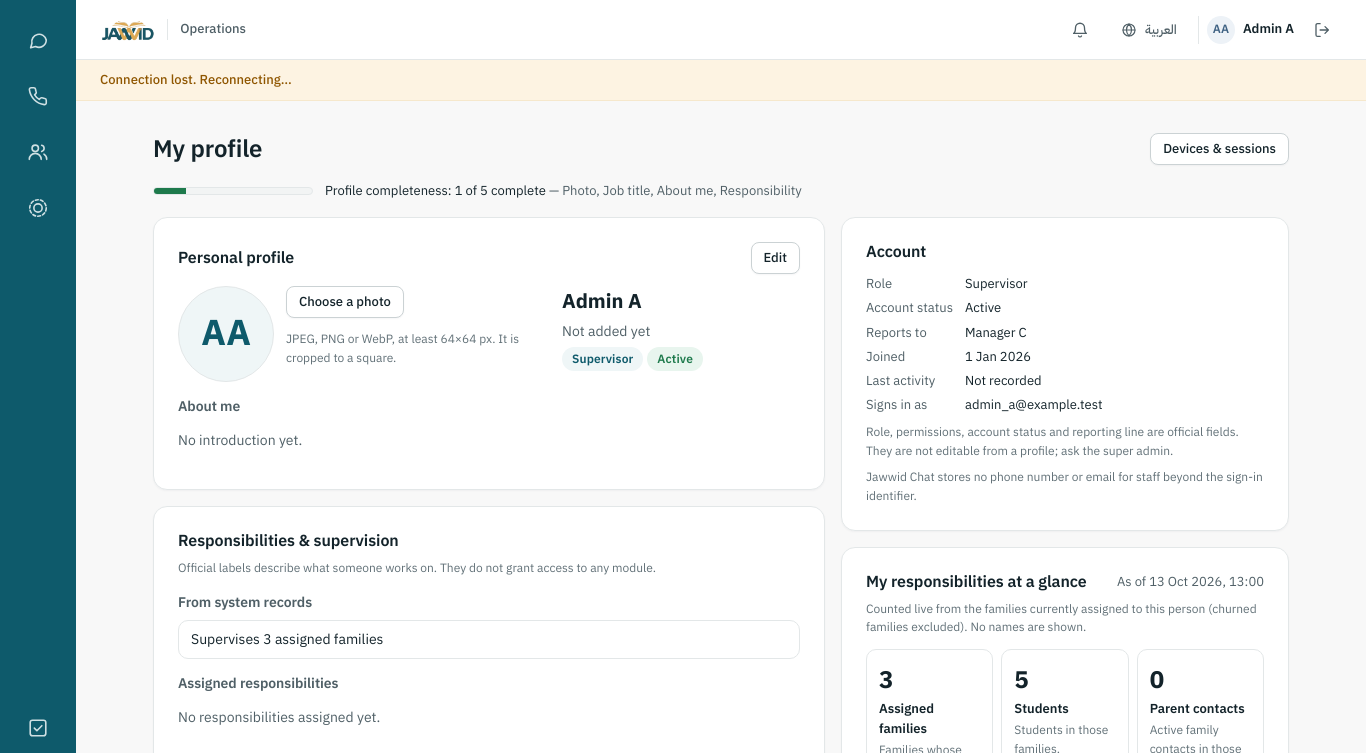
it: an admin's own profile › saves only the professional fields and the loaded version -- never a role or permission
Click the button "Edit" at (775, 258), box [750,242,800,274]
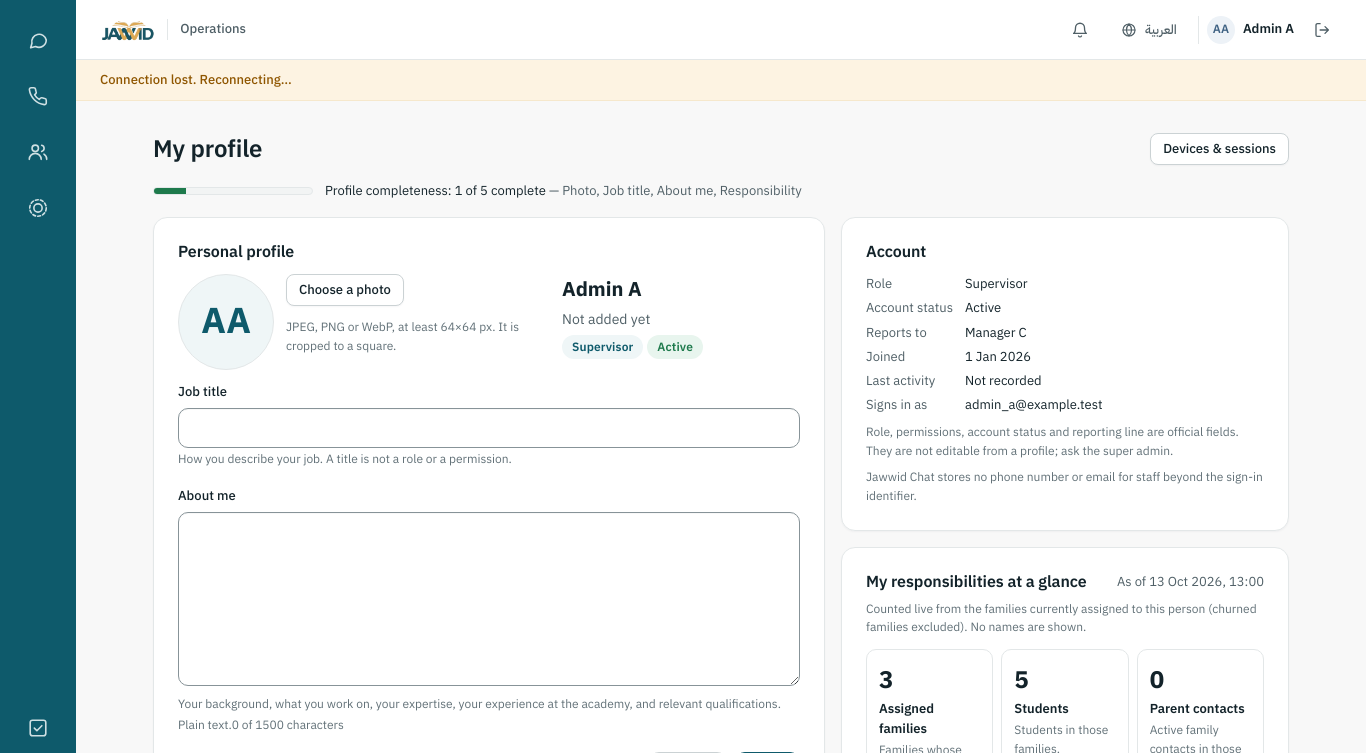
Type "مشرفة متابعة" into the field labelled "Job title" at (489, 428), box [178,408,800,448]
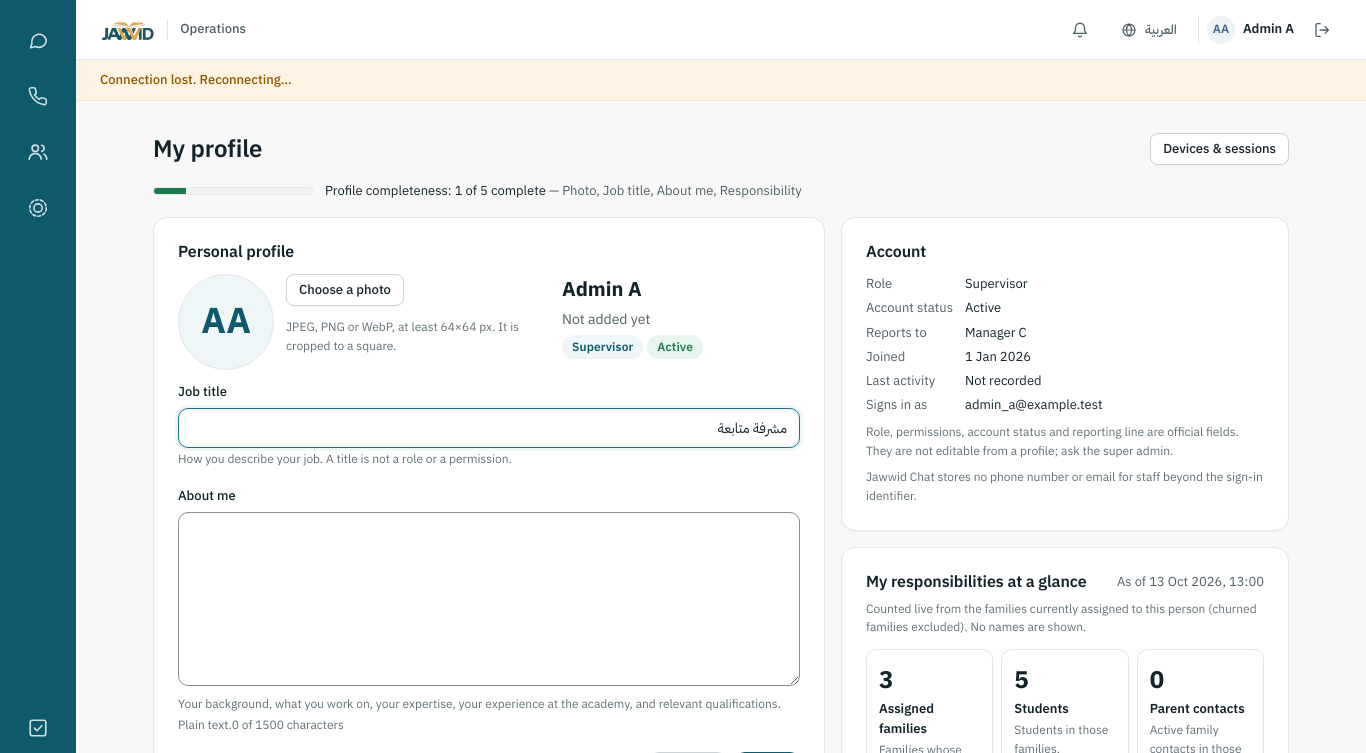
Type "Line one" into the text box labelled "About me" at (489, 599), box [178,512,800,686]
(page scrolled)
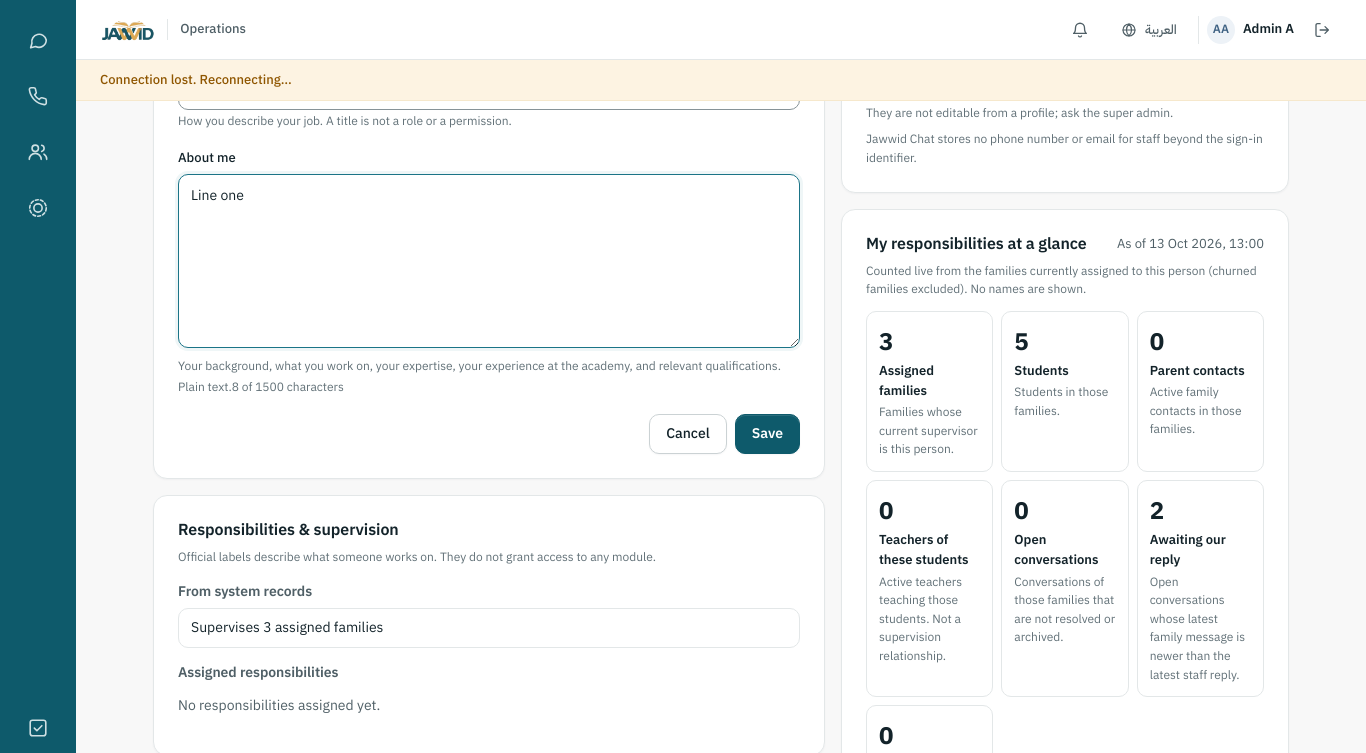
Click the button "Save" at (767, 434), box [735,414,800,454]
(page scrolled)
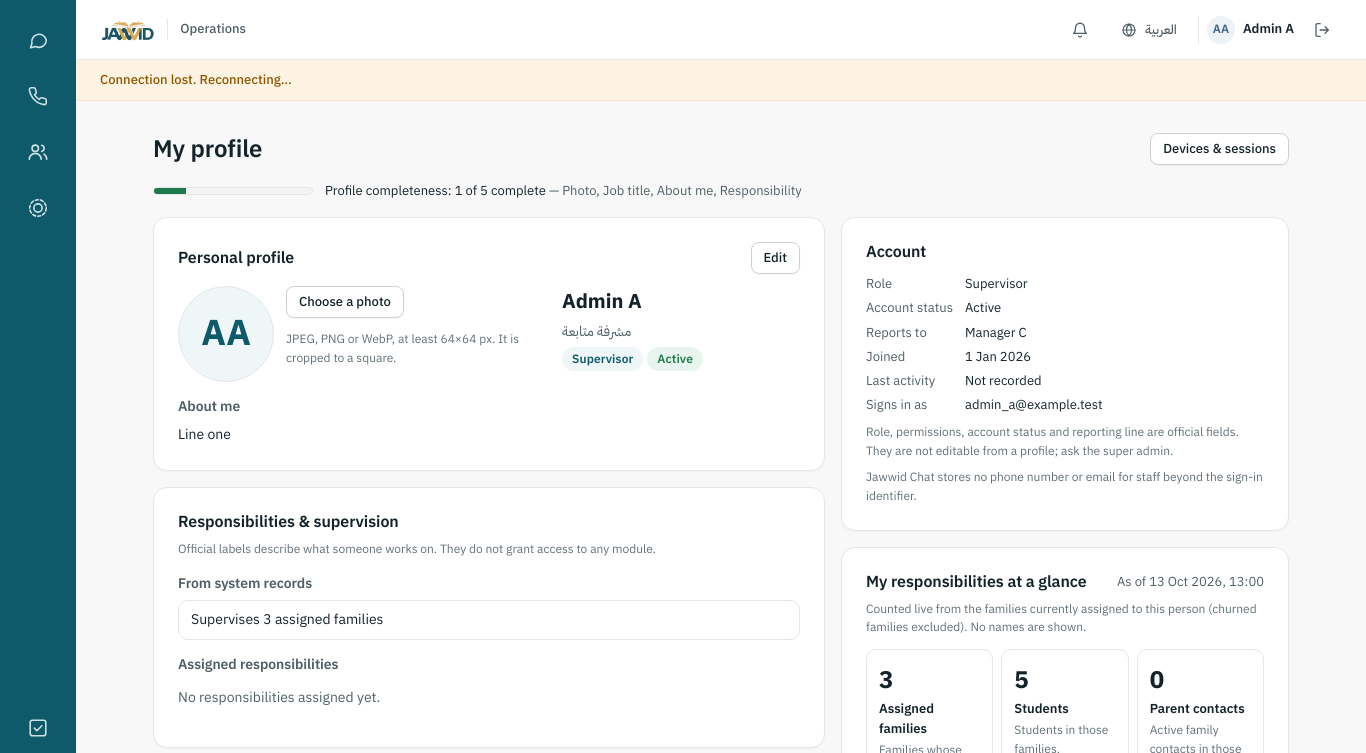
Check: the text "مشرفة متابعة" is shown, box [562,321,631,342]
